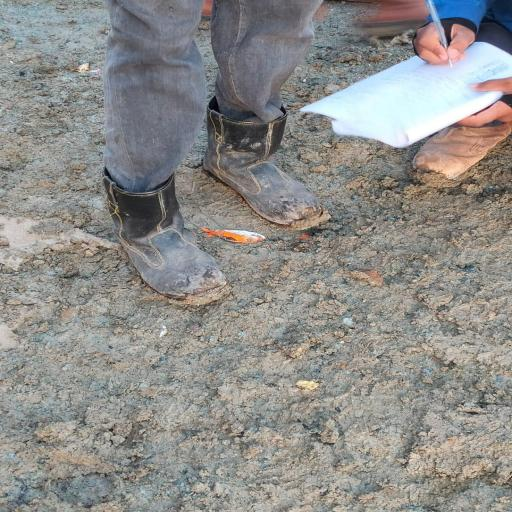safety_shoe: (88, 164, 229, 304), (200, 103, 338, 231)
